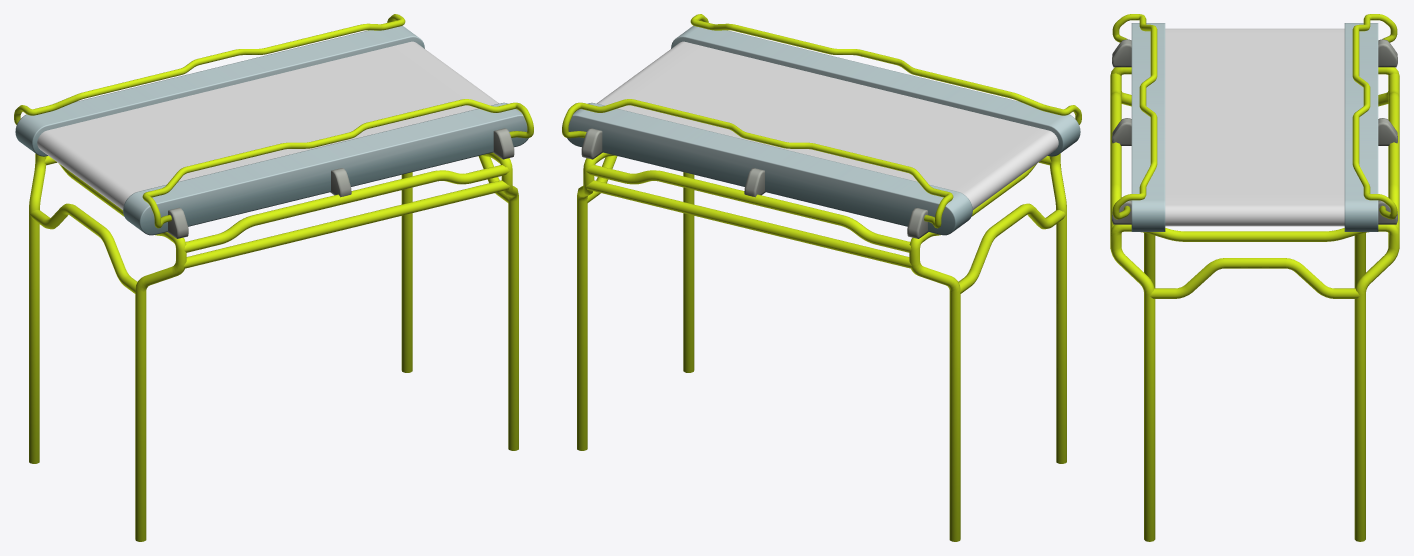
Rendered from SM_conveyor_2x4.fbx.
The picture shows the model from 3 angles, left to right: view 1: azimuth 30°, elevation 25°; view 2: azimuth 150°, elevation 25°; view 3: azimuth 270°, elevation 25°; orthographic projection.
Parts seen in each view (by area): view 1: belt.002, SM_conveyor_2x4, Pipe Curve.005, Pipe Curve.002, Circle.002; view 2: belt.002, SM_conveyor_2x4, Pipe Curve.005, Pipe Curve.002, Circle.002; view 3: belt.002, Pipe Curve.005, SM_conveyor_2x4, Pipe Curve.002, Circle.002.
Boxes of the visible parts, box(x1,y1,x2,y2) form: belt.002: box(37, 41, 498, 209); SM_conveyor_2x4: box(15, 25, 528, 235); Pipe Curve.005: box(29, 152, 518, 541); Pipe Curve.002: box(14, 14, 533, 228); Circle.002: box(167, 128, 514, 238); belt.002: box(597, 41, 1058, 209); SM_conveyor_2x4: box(567, 25, 1080, 235); Pipe Curve.005: box(577, 152, 1066, 541); Pipe Curve.002: box(562, 14, 1081, 228); Circle.002: box(581, 128, 928, 238); belt.002: box(1165, 28, 1344, 226); Pipe Curve.005: box(1110, 67, 1399, 541); SM_conveyor_2x4: box(1131, 23, 1378, 231); Pipe Curve.002: box(1112, 14, 1397, 219); Circle.002: box(1112, 39, 1397, 224).
Size of the model in its own units: 400 by 350 by 258.
